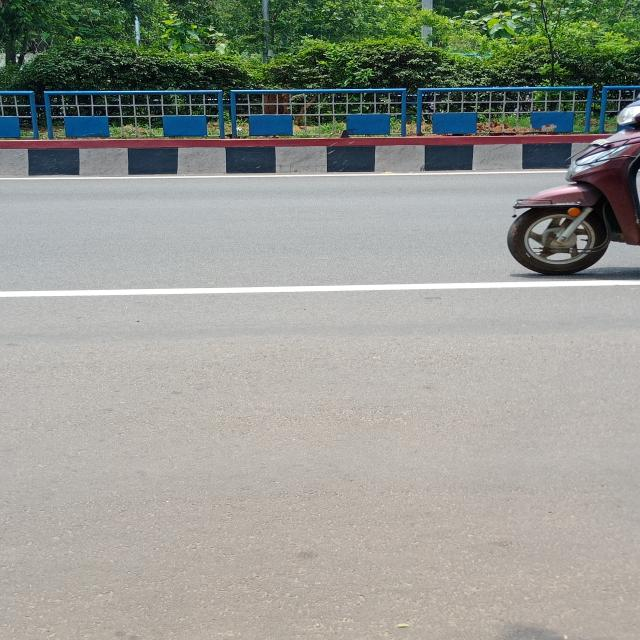bike: (480, 85, 640, 281)
